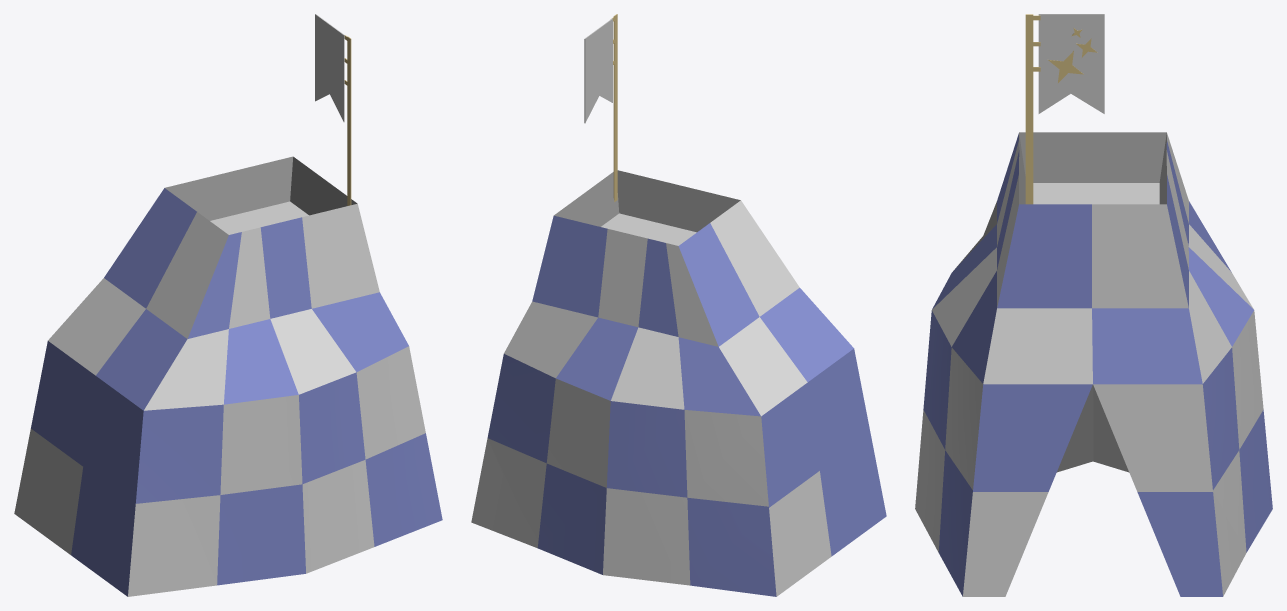
File: mage_tent_02.fbx
3 views of the same model, side by side, from view 1: azimuth 30°, elevation 25°; view 2: azimuth 150°, elevation 25°; view 3: azimuth 270°, elevation 25° (orthographic). The views are drawn at different scales.
Visible parts, largest first — view 1: pCube158, pCube164; view 2: pCube158, pCube164; view 3: pCube158, pCube164.
Boxes of the visible parts, x1,y1,x2,y2 form: pCube158: [14, 156, 442, 596]; pCube164: [315, 14, 351, 205]; pCube158: [471, 170, 886, 596]; pCube164: [584, 14, 617, 201]; pCube158: [915, 132, 1272, 596]; pCube164: [1025, 14, 1104, 204].
Size of the model in its own units: 1.9 by 2.75 by 1.63.
